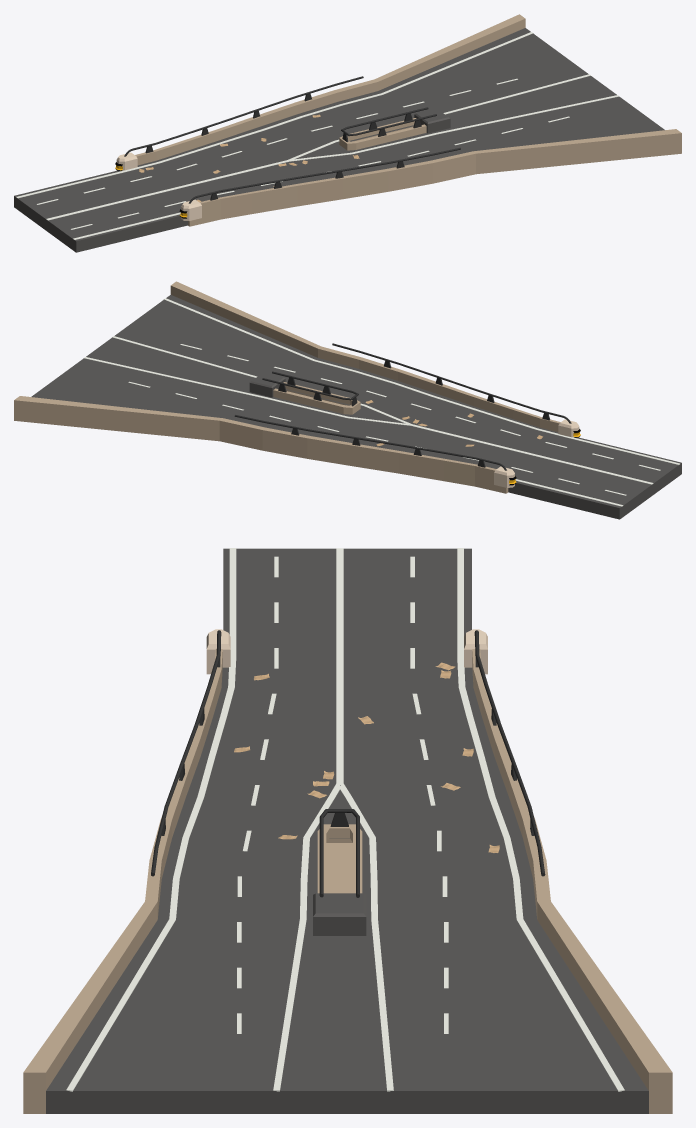
File: 09 Road.FBX
The picture shows the model from 3 angles, top to bottom: view 1: azimuth 30°, elevation 25°; view 2: azimuth 150°, elevation 25°; view 3: azimuth 270°, elevation 25°; orthographic projection. The views are drawn at different scales.
Parts seen in each view (by area): view 1: Road; view 2: Road; view 3: Road.
Part boxes in pixels (x1=…): Road: x1=14, y1=14, x2=681, y2=252; Road: x1=14, y1=281, x2=681, y2=519; Road: x1=23, y1=548, x2=672, y2=1113.
Size of the model in its own units: 9489 by 462 by 4800.
